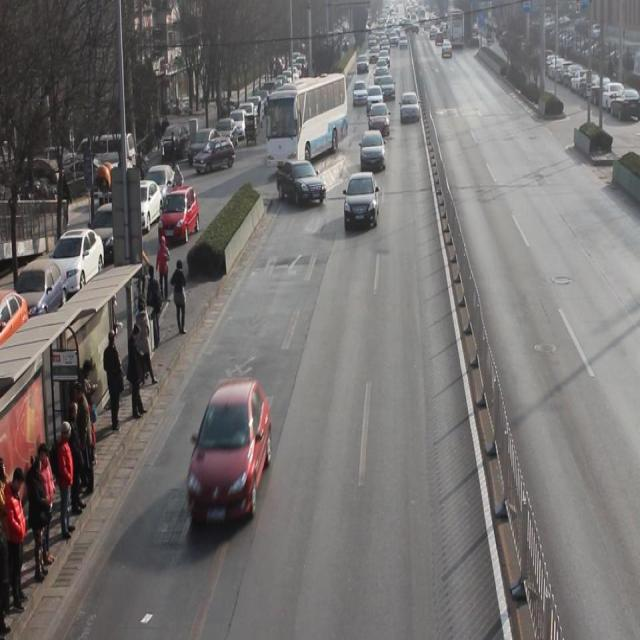car: (186, 385, 271, 532), (276, 161, 326, 210), (343, 175, 378, 232), (359, 132, 386, 176), (367, 105, 390, 139), (398, 94, 421, 126)
van: (266, 74, 348, 168)
